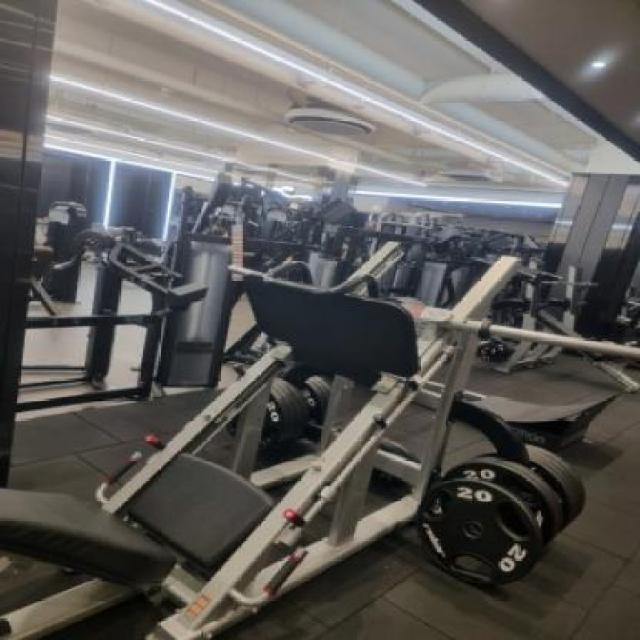leg press: (1, 198, 640, 639)
